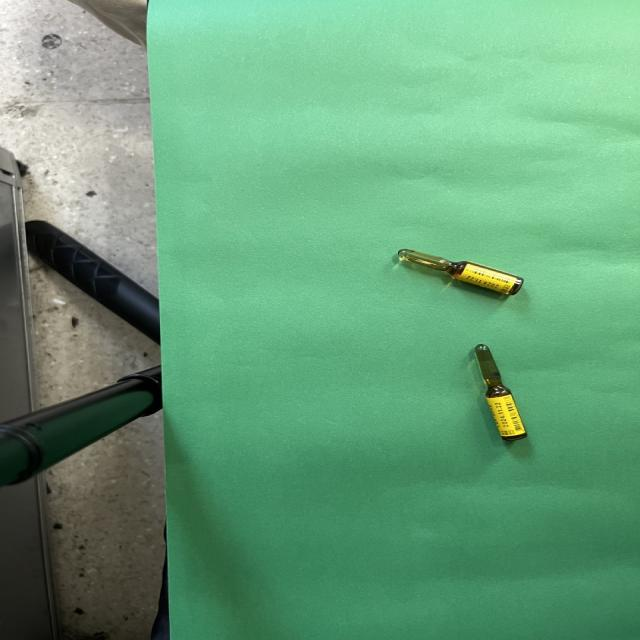Ampoules: (398, 249, 524, 295), (475, 344, 528, 441)
